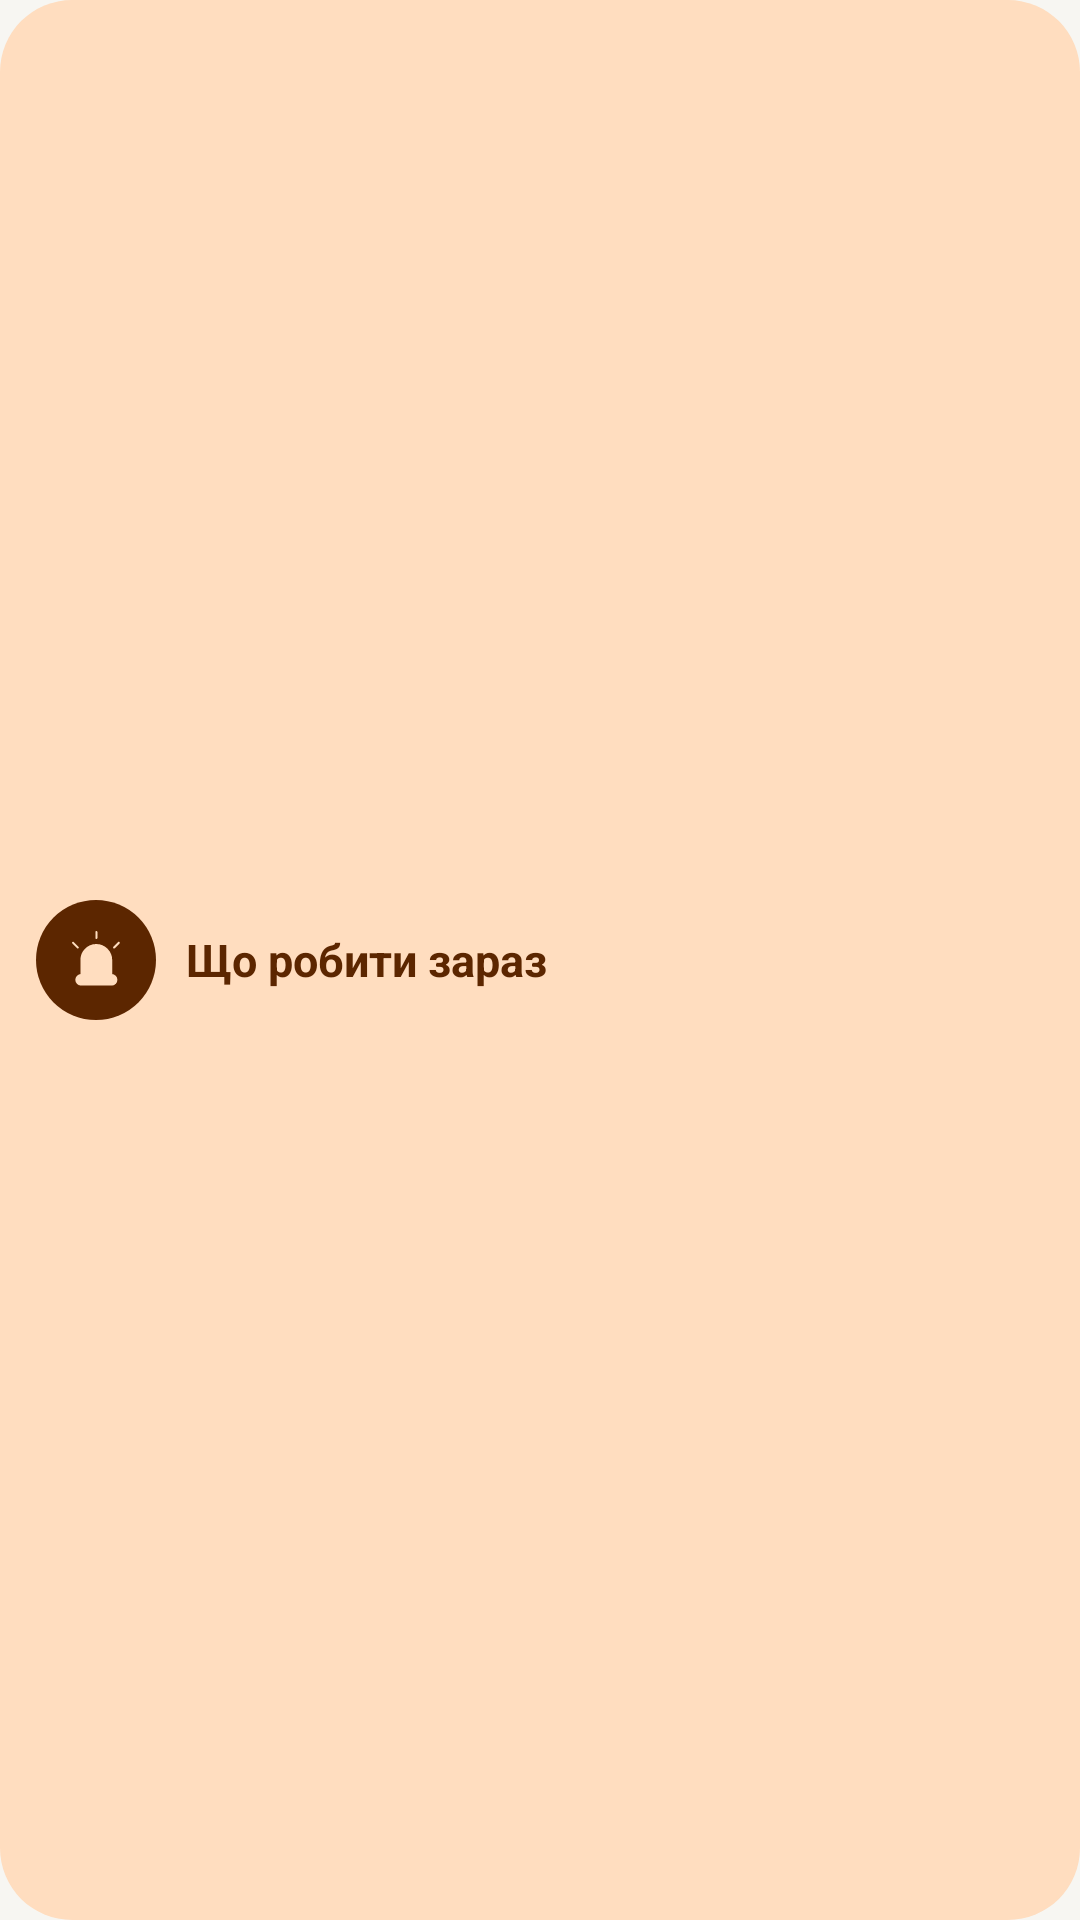

Screen size 1080 x 1920. Icon name, then its center in pixels as [x,y]:
om siren: [96,960]
